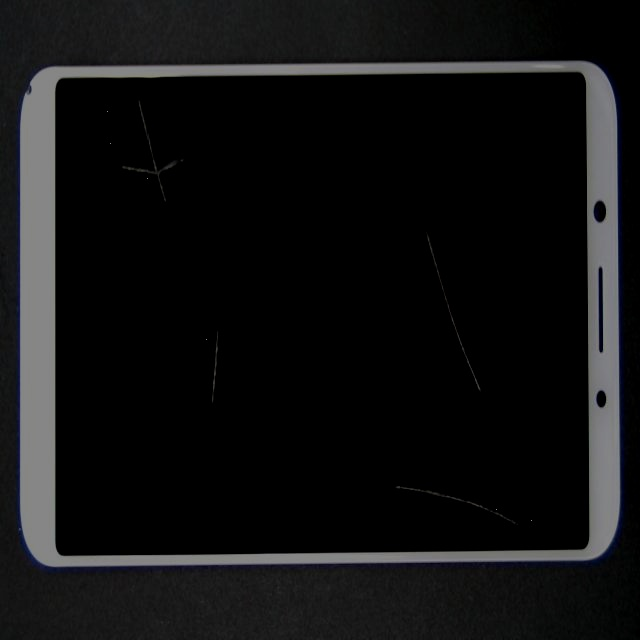scratch: (109, 231, 632, 640), (219, 65, 630, 338), (74, 200, 304, 640), (84, 67, 189, 237)
